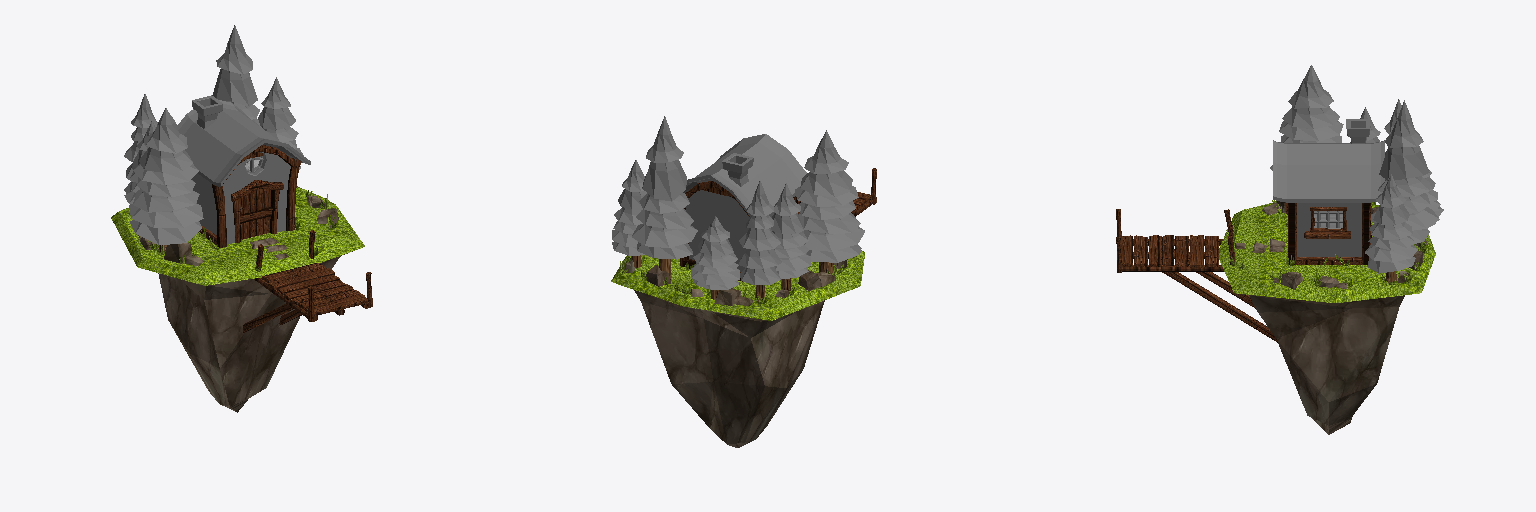
3 views of the same model, side by side, from view 1: azimuth 30°, elevation 25°; view 2: azimuth 150°, elevation 25°; view 3: azimuth 270°, elevation 25° (orthographic).
Parts seen in each view (by area): view 1: cube111, cube1, Object, cube1151, circle11, circle152, cube1171, circle16, circle1, circle12, circle15, circle162 (+4 smaller); view 2: cube111, cube1, circle152, circle112, circle15, circle16, circle11, circle162, circle12, circle122, circle1411, circle14 (+9 smaller); view 3: cube111, cube1, Object, cube1151, circle152, circle16, circle15, circle162, circle14, cube1111, circle1112, circle131 (+3 smaller).
Part boxes in pixels (left/top/right/bottom): cube111: left=111, top=186, right=364, bottom=412; cube1: left=177, top=100, right=310, bottom=244; Object: left=243, top=230, right=372, bottom=332; cube1151: left=199, top=145, right=300, bottom=247; circle11: left=129, top=203, right=203, bottom=227; circle152: left=212, top=69, right=257, bottom=106; cube1171: left=240, top=189, right=270, bottom=239; circle16: left=144, top=108, right=187, bottom=153; circle1: left=130, top=220, right=201, bottom=244; circle12: left=133, top=189, right=199, bottom=212; circle15: left=139, top=147, right=192, bottom=172; circle162: left=216, top=25, right=252, bottom=74; cube111: left=611, top=250, right=864, bottom=447; cube1: left=683, top=134, right=806, bottom=271; circle152: left=642, top=160, right=686, bottom=201; circle112: left=632, top=224, right=697, bottom=247; circle15: left=800, top=170, right=852, bottom=197; circle16: left=804, top=130, right=848, bottom=173; circle11: left=802, top=226, right=864, bottom=251; circle162: left=646, top=116, right=683, bottom=162; circle12: left=798, top=213, right=860, bottom=233; circle122: left=636, top=208, right=693, bottom=228; circle1411: left=739, top=228, right=780, bottom=250; circle14: left=795, top=186, right=858, bottom=206; cube111: left=1219, top=203, right=1435, bottom=434; cube1: left=1273, top=140, right=1384, bottom=256; Object: left=1116, top=207, right=1350, bottom=342; cube1151: left=1286, top=203, right=1371, bottom=264; circle152: left=1379, top=146, right=1429, bottom=180; circle16: left=1288, top=65, right=1333, bottom=108; circle15: left=1282, top=106, right=1339, bottom=128; circle162: left=1385, top=100, right=1423, bottom=147; circle14: left=1279, top=121, right=1343, bottom=140; cube1111: left=1122, top=239, right=1223, bottom=271; circle1112: left=1365, top=244, right=1417, bottom=262; circle131: left=1378, top=176, right=1429, bottom=196.
Bounding box in the file's own units: 6.73 × 10.54 × 8.91.
13 materials, 6 textured.